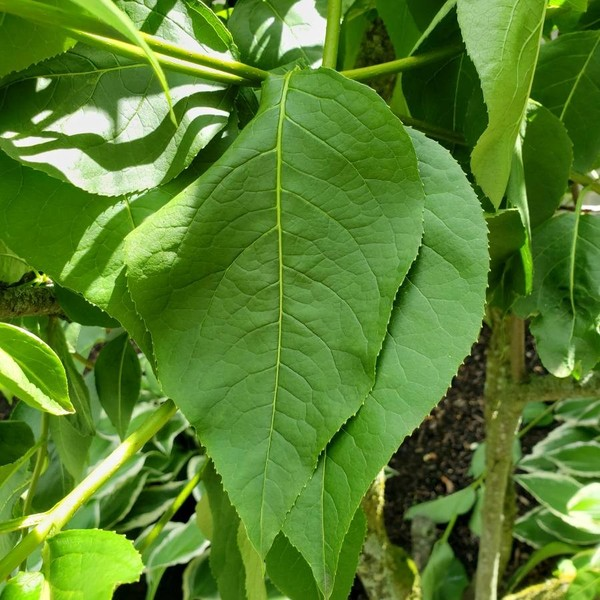obstacle: (38, 22, 485, 576)
